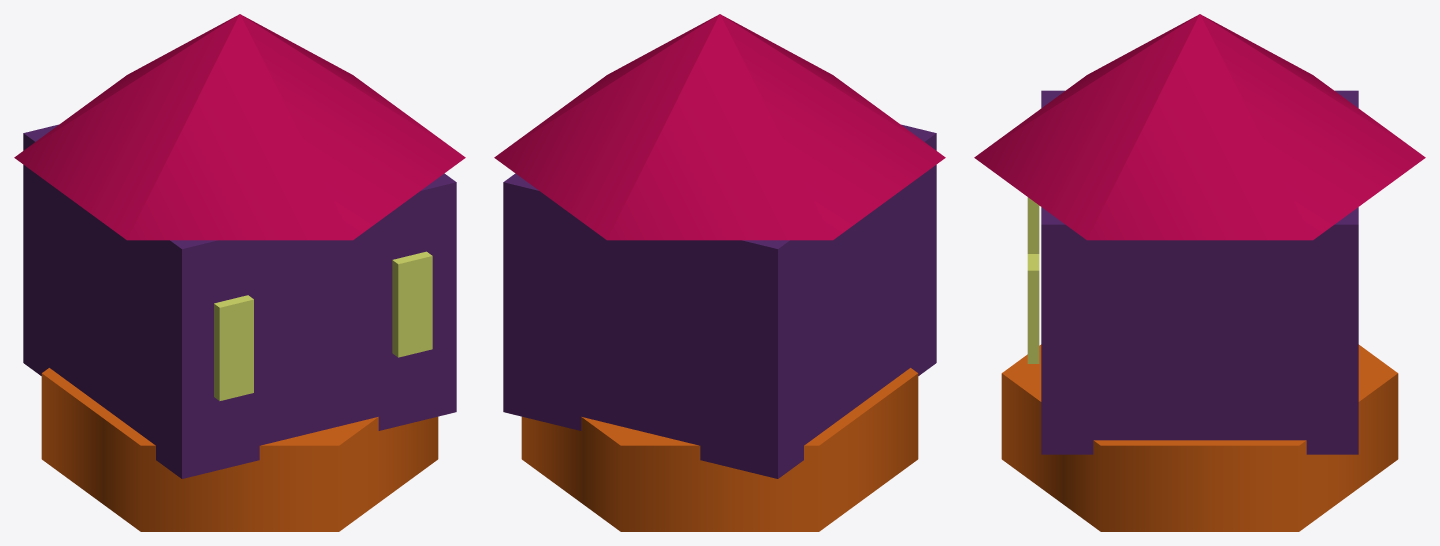
The model's file is product-hall.glb.
3 views of the same model, side by side, from view 1: azimuth 30°, elevation 25°; view 2: azimuth 150°, elevation 25°; view 3: azimuth 270°, elevation 25° (orthographic).
Bounding box in the file's own units: 4.94 × 6.2 × 5.7.
